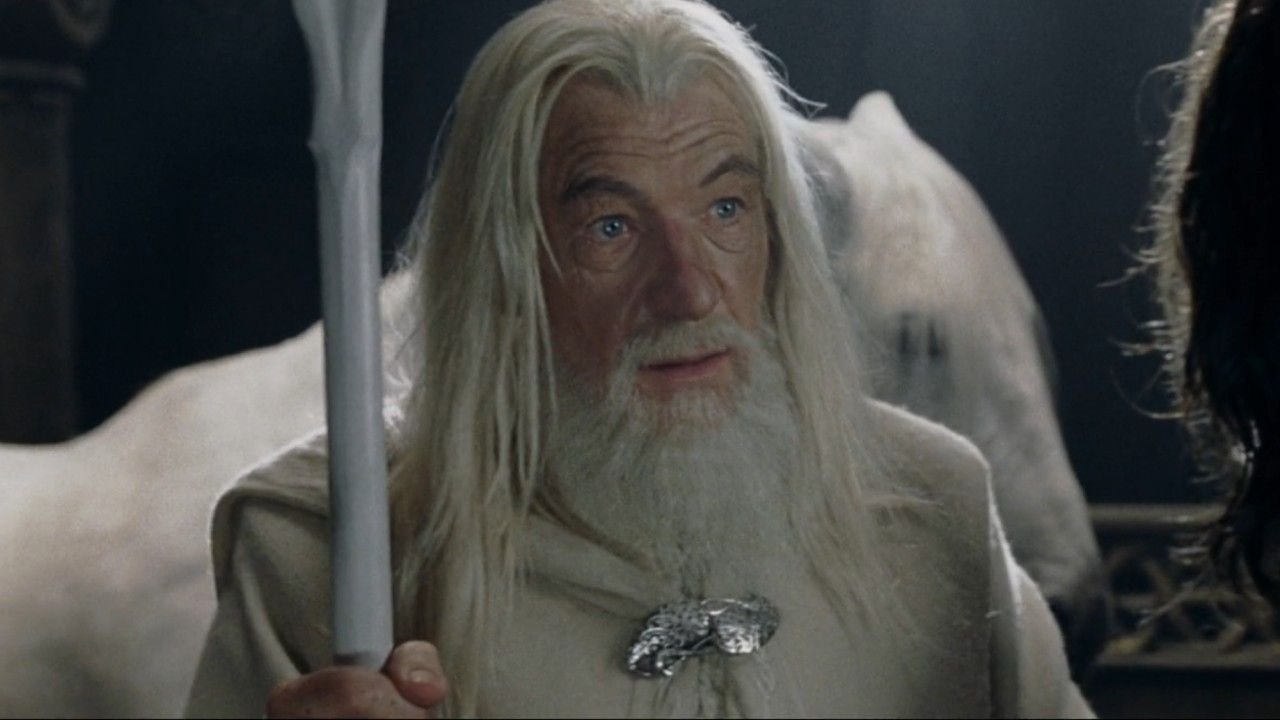gandalf gray: (245, 7, 1052, 693)
